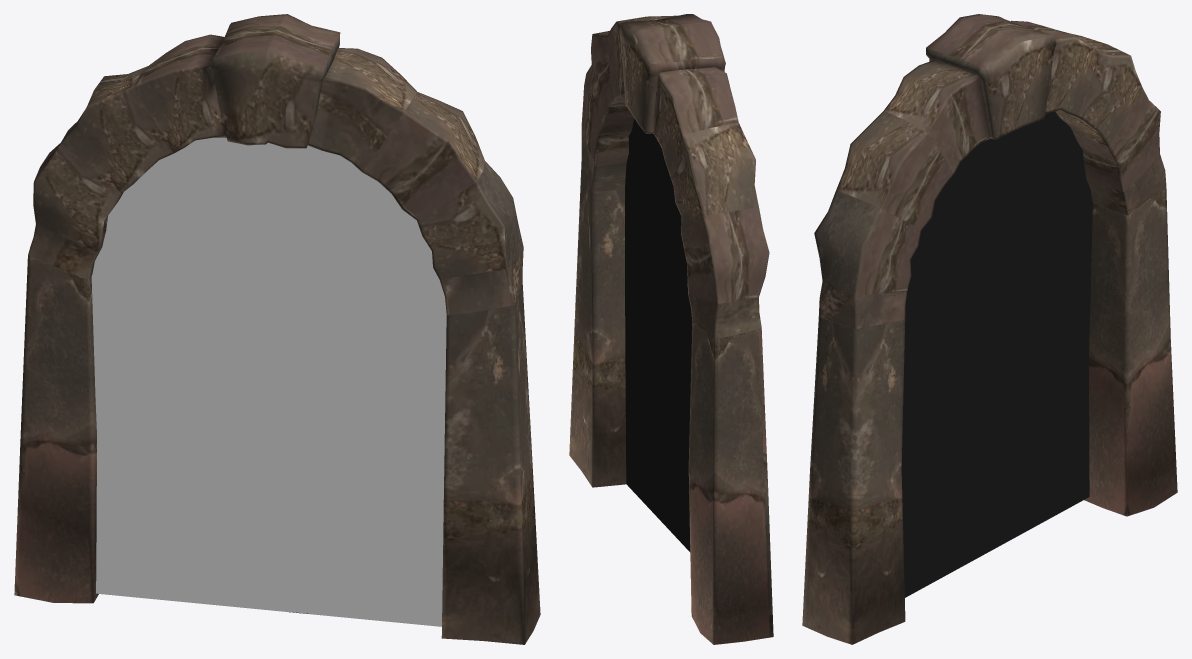
File: right-door-transformed.glb
3 renders of one model, left to right at view 1: azimuth 30°, elevation 25°; view 2: azimuth 150°, elevation 25°; view 3: azimuth 270°, elevation 25°, orthographic. The views are drawn at different scales.
Visible parts, largest first — view 1: Retopo_Circle.003, StoneGateway.001; view 2: StoneGateway.001, Retopo_Circle.003; view 3: StoneGateway.001, Retopo_Circle.003.
Part boxes in pixels (x1,y1,x2,y2): Retopo_Circle.003: (91, 137, 446, 626); StoneGateway.001: (14, 14, 540, 644); StoneGateway.001: (569, 14, 773, 644); Retopo_Circle.003: (625, 119, 745, 552); StoneGateway.001: (802, 14, 1177, 644); Retopo_Circle.003: (860, 111, 1092, 597).
Size of the model in its own units: 2.7 by 3.98 by 2.53.
3 materials, 3 textured.
